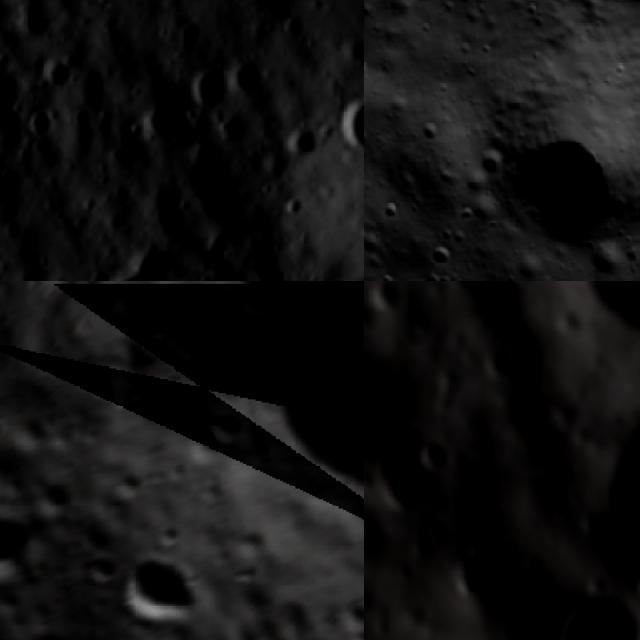crater: (184, 281, 364, 554), (474, 91, 640, 265), (100, 521, 211, 640), (584, 408, 640, 525), (0, 484, 54, 598), (364, 434, 421, 519), (184, 406, 253, 473), (556, 586, 640, 640), (321, 72, 364, 165), (454, 544, 508, 617), (182, 64, 243, 124), (9, 598, 96, 640), (225, 517, 278, 568), (76, 545, 129, 594), (146, 349, 193, 400), (478, 343, 530, 388), (0, 370, 35, 435), (404, 520, 454, 560), (421, 239, 462, 280), (410, 435, 448, 476), (410, 306, 447, 342), (364, 281, 406, 310), (625, 0, 640, 57), (414, 262, 457, 281), (364, 296, 383, 332), (396, 0, 443, 14)
